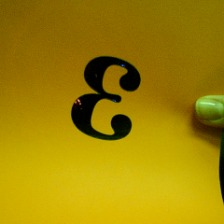orange3: (69, 54, 145, 147)
